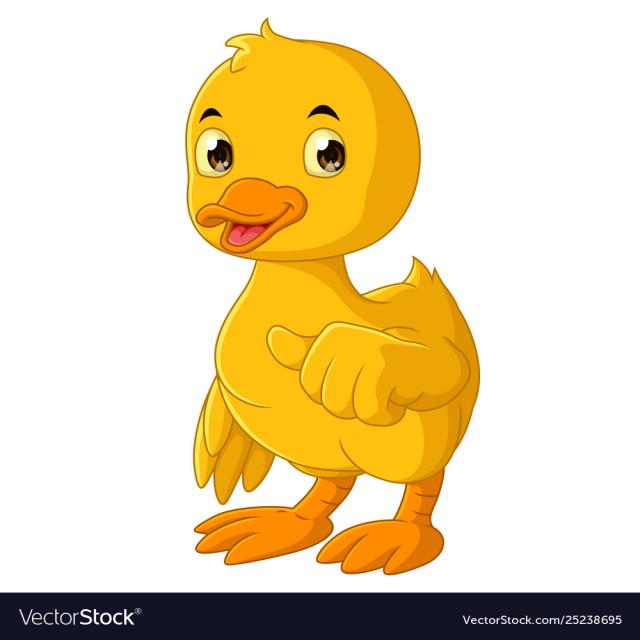Duck: (184, 18, 481, 578)
